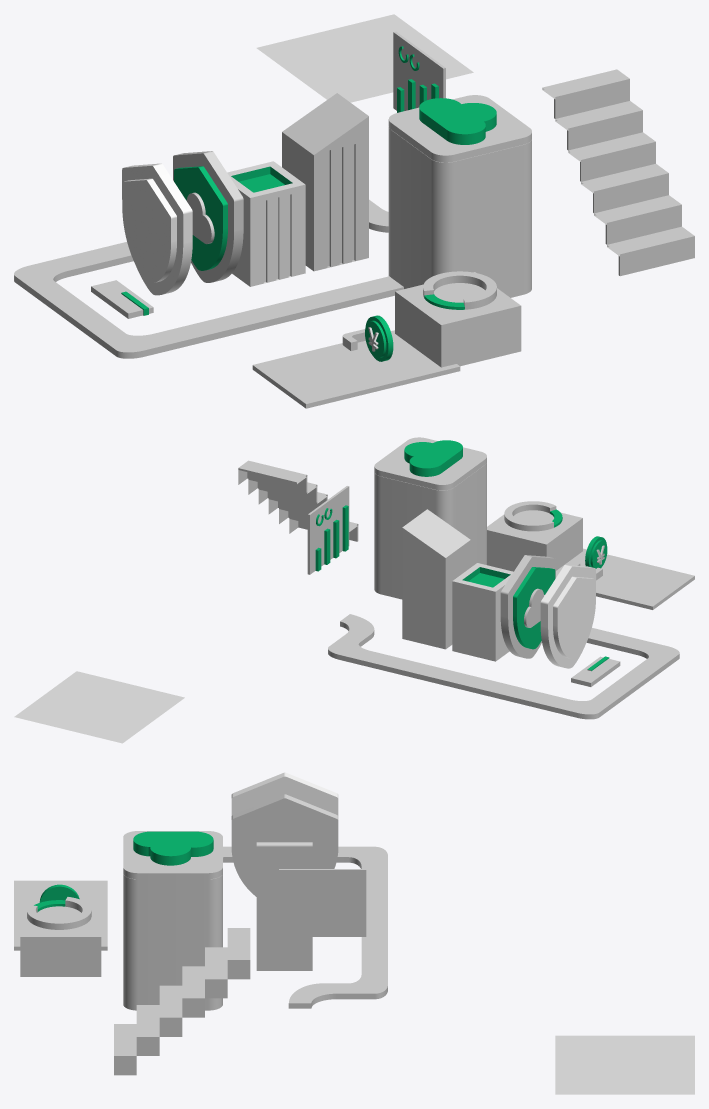
File: all.glb
3 renders of one model, top to bottom at view 1: azimuth 30°, elevation 25°; view 2: azimuth 150°, elevation 25°; view 3: azimuth 270°, elevation 25°, orthographic. The views are drawn at different scales.
Visible parts, largest first — view 1: 立方体.001, Stairs, 立方体, 平面.004, 平面.003, 立方体.003, 立方体.004, Cube, Curve.004, 立方体.002, Curve.003, Curve (+6 smaller); view 2: 平面.004, 立方体.001, 立方体, 平面.003, Cube, 立方体.003, 立方体.004, Stairs, Curve.004, 立方体.002, 立方体.010, Curve (+6 smaller); view 3: 立方体.001, 平面.003, Stairs, 立方体.010, Curve, 平面.004, 立方体.003, 立方体, 立方体.002, Curve.003, Curve.005, 立方体.004 (+1 smaller).
Boxes of the visible parts, x1=… form: 立方体.001: x1=388, y1=126, x2=531, y2=297; Stairs: x1=542, y1=69, x2=694, y2=276; 立方体: x1=282, y1=93, x2=368, y2=271; 平面.004: x1=14, y1=199, x2=403, y2=358; 平面.003: x1=256, y1=14, x2=473, y2=102; 立方体.003: x1=395, y1=272, x2=521, y2=367; 立方体.004: x1=252, y1=330, x2=460, y2=408; Cube: x1=227, y1=161, x2=305, y2=286; Curve.004: x1=122, y1=178, x2=176, y2=283; 立方体.002: x1=388, y1=95, x2=531, y2=162; Curve.003: x1=122, y1=163, x2=192, y2=295; Curve: x1=173, y1=151, x2=243, y2=282; 平面.004: x1=328, y1=614, x2=679, y2=719; 立方体.001: x1=374, y1=463, x2=486, y2=599; 立方体: x1=402, y1=509, x2=470, y2=649; 平面.003: x1=14, y1=671, x2=184, y2=743; Cube: x1=452, y1=563, x2=513, y2=661; 立方体.003: x1=487, y1=510, x2=582, y2=571; 立方体.004: x1=556, y1=548, x2=694, y2=609; Stairs: x1=238, y1=460, x2=358, y2=541; Curve.004: x1=553, y1=576, x2=595, y2=659; 立方体.002: x1=374, y1=437, x2=486, y2=490; 立方体.010: x1=307, y1=486, x2=349, y2=574; Curve: x1=500, y1=555, x2=555, y2=658; 立方体.001: x1=123, y1=874, x2=222, y2=1010; 平面.003: x1=555, y1=1035, x2=694, y2=1094; Stairs: x1=114, y1=928, x2=250, y2=1075; 立方体.010: x1=279, y1=869, x2=366, y2=936; Curve: x1=231, y1=794, x2=338, y2=896; 平面.004: x1=223, y1=846, x2=387, y2=1008; 立方体.003: x1=20, y1=903, x2=101, y2=976; 立方体: x1=256, y1=845, x2=312, y2=970; 立方体.002: x1=123, y1=831, x2=222, y2=879; Curve.003: x1=231, y1=772, x2=338, y2=815; Curve.005: x1=133, y1=831, x2=213, y2=865; 立方体.004: x1=14, y1=880, x2=107, y2=950.
Bounding box in the file's own units: 20.33 × 6.04 × 24.39.
